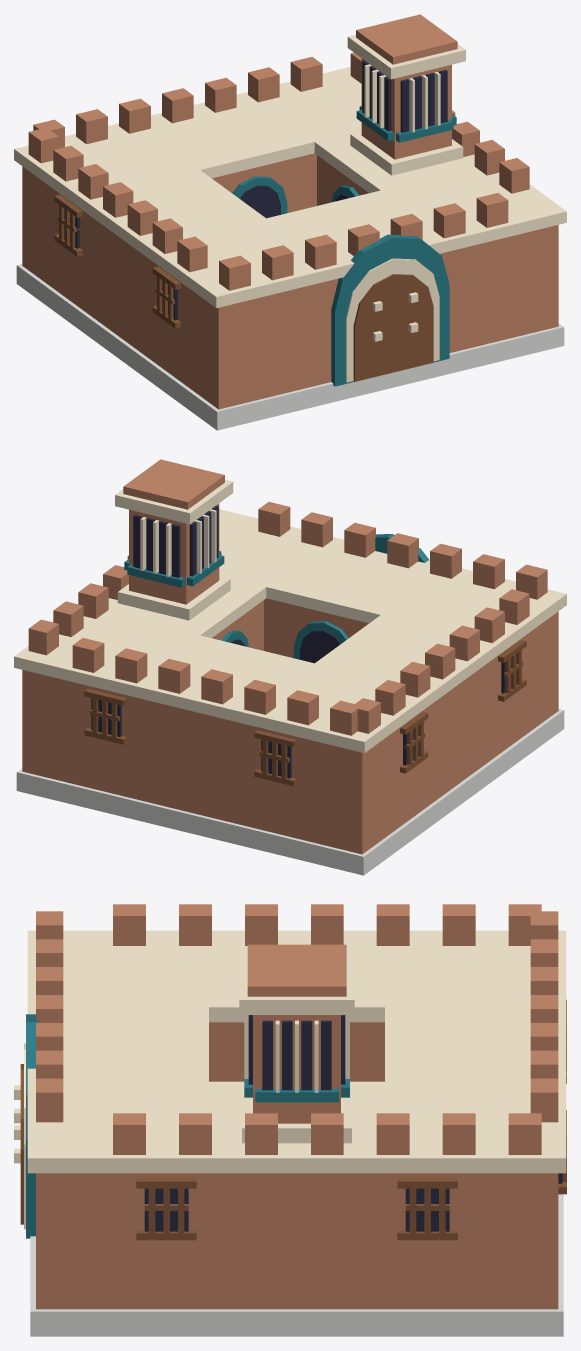
Rendered from house-1x1-1f-riad-a.glb.
3 renders of one model, top to bottom at view 1: azimuth 30°, elevation 25°; view 2: azimuth 150°, elevation 25°; view 3: azimuth 270°, elevation 25°, orthographic. The views are drawn at different scales.
Visible parts, largest first — view 1: house-1x1-1f-riad-a; view 2: house-1x1-1f-riad-a; view 3: house-1x1-1f-riad-a.
Part boxes in pixels (x1,y1,x2,y2): house-1x1-1f-riad-a: (14, 14, 566, 430); house-1x1-1f-riad-a: (14, 459, 566, 875); house-1x1-1f-riad-a: (14, 904, 566, 1336).
Bounding box in the file's own units: 0.982 × 0.67 × 1.01.
1 material, 1 textured.
